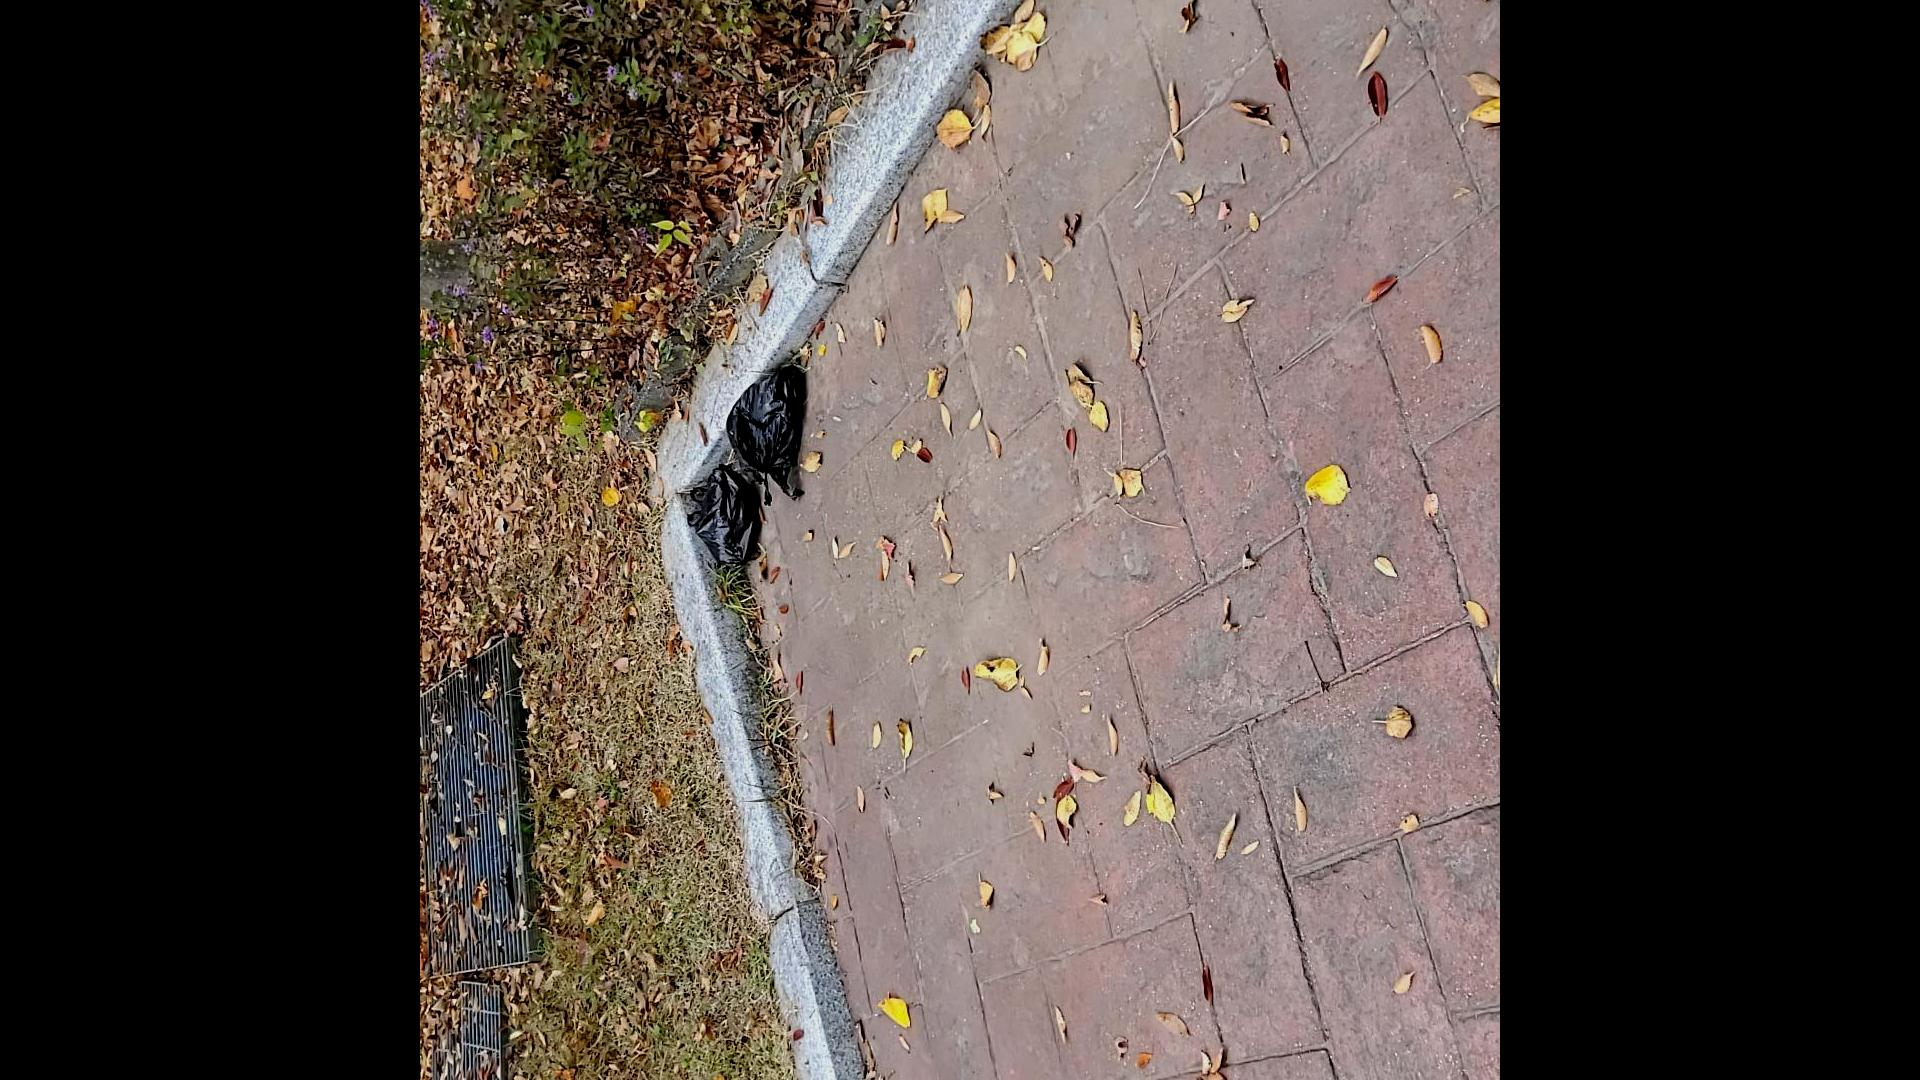black_bag: (719, 363, 823, 509), (680, 460, 767, 572)
